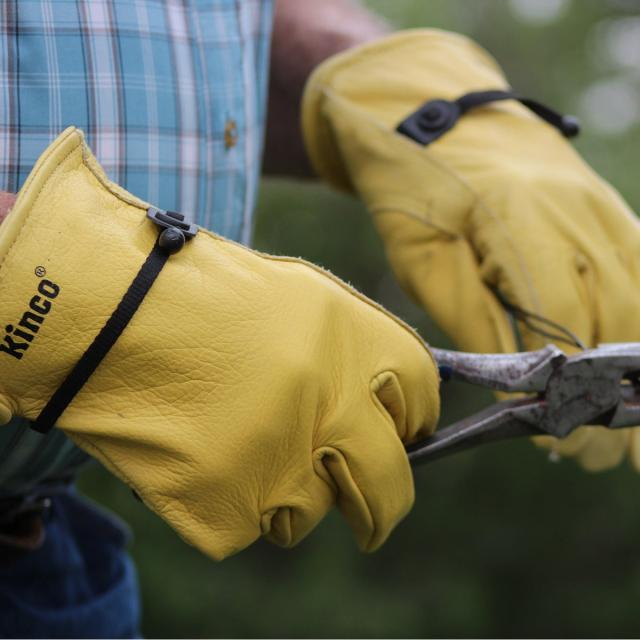gloves: (0, 127, 442, 565), (301, 22, 640, 476)
